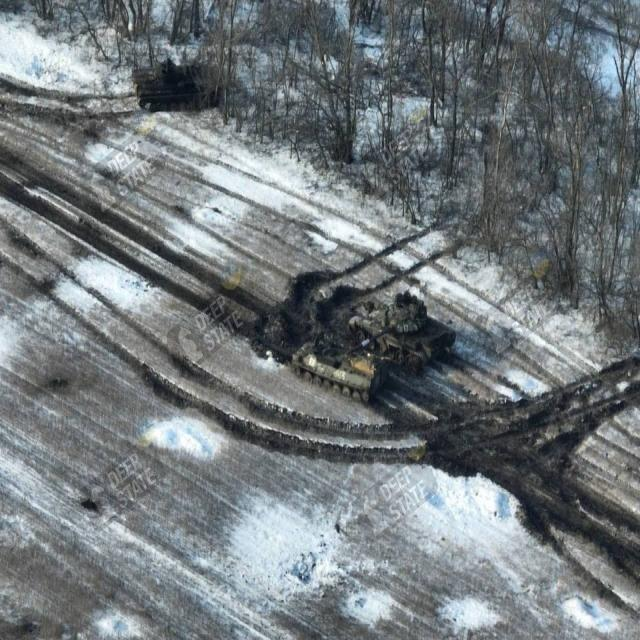AIFV: (130, 59, 226, 114)
APC: (290, 344, 385, 402)
MBT: (352, 288, 457, 376)
